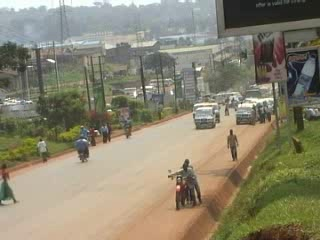Motorcycle: (164, 166, 197, 210), (73, 138, 91, 163), (122, 119, 134, 143)
